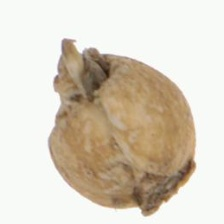L1: (52, 38, 113, 105), (138, 160, 197, 216)
L2: (48, 38, 198, 216)
